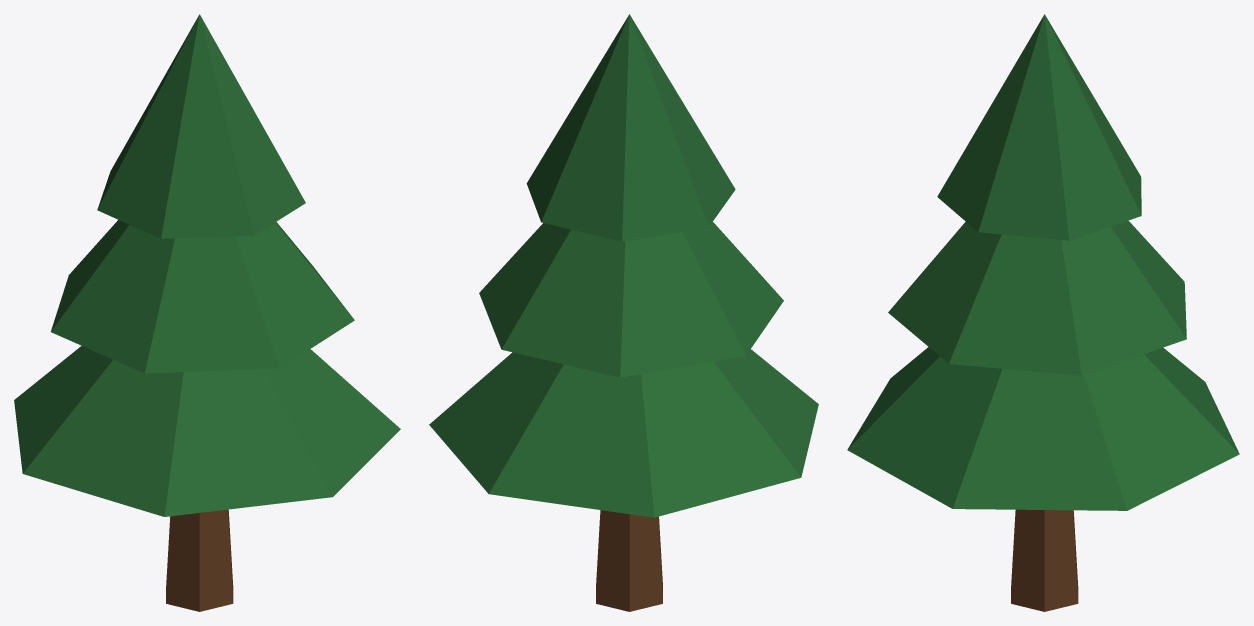
Rendered from tree_pine.glb.
3 views of the same model, side by side, from view 1: azimuth 30°, elevation 25°; view 2: azimuth 150°, elevation 25°; view 3: azimuth 270°, elevation 25° (orthographic).
Visible parts, largest first — view 1: tree_pine; view 2: tree_pine; view 3: tree_pine.
Boxes of the visible parts, x1,y1,x2,y2 form: tree_pine: (14,14,400,611); tree_pine: (429,14,818,611); tree_pine: (847,14,1239,611).
Bounding box in the file's own units: 2.58 × 4.3 × 2.63.
